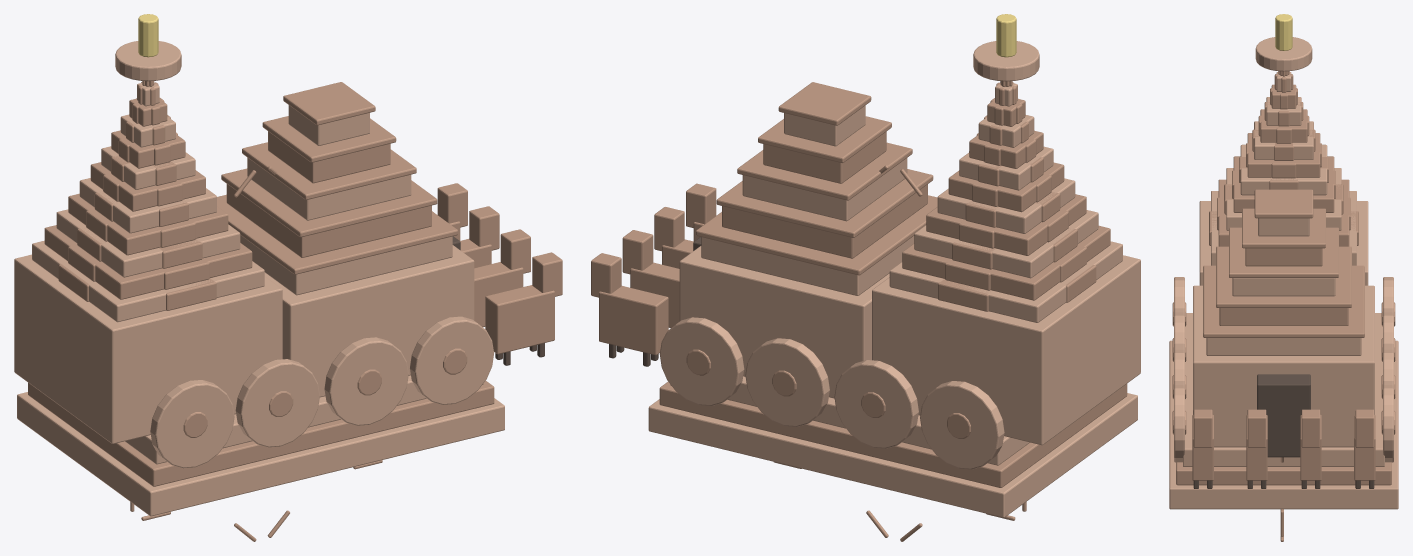
File: sun_temple.glb
The picture shows the model from 3 angles, left to right: view 1: azimuth 30°, elevation 25°; view 2: azimuth 150°, elevation 25°; view 3: azimuth 270°, elevation 25°; orthographic projection. The views are drawn at different scales.
Visible parts, largest first — view 1: Cube; view 2: Cube; view 3: Cube.
Boxes of the visible parts, x1,y1,x2,y2 form: Cube: [14, 14, 562, 541]; Cube: [591, 14, 1140, 541]; Cube: [1169, 14, 1398, 541].
Bounding box in the file's own units: 6.55 × 7.68 × 3.4.
